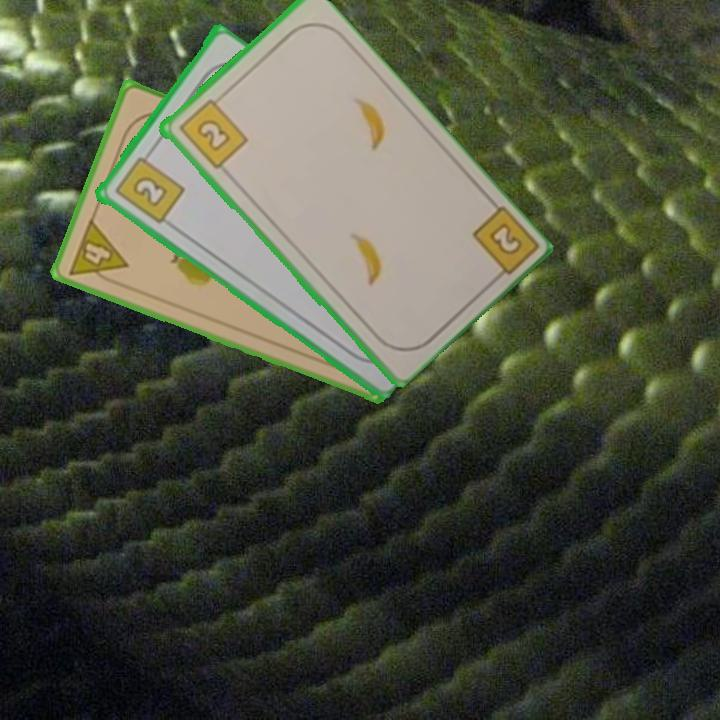2b: (110, 148, 187, 227), (468, 201, 538, 287), (175, 93, 250, 172)
4p: (65, 215, 131, 290)
